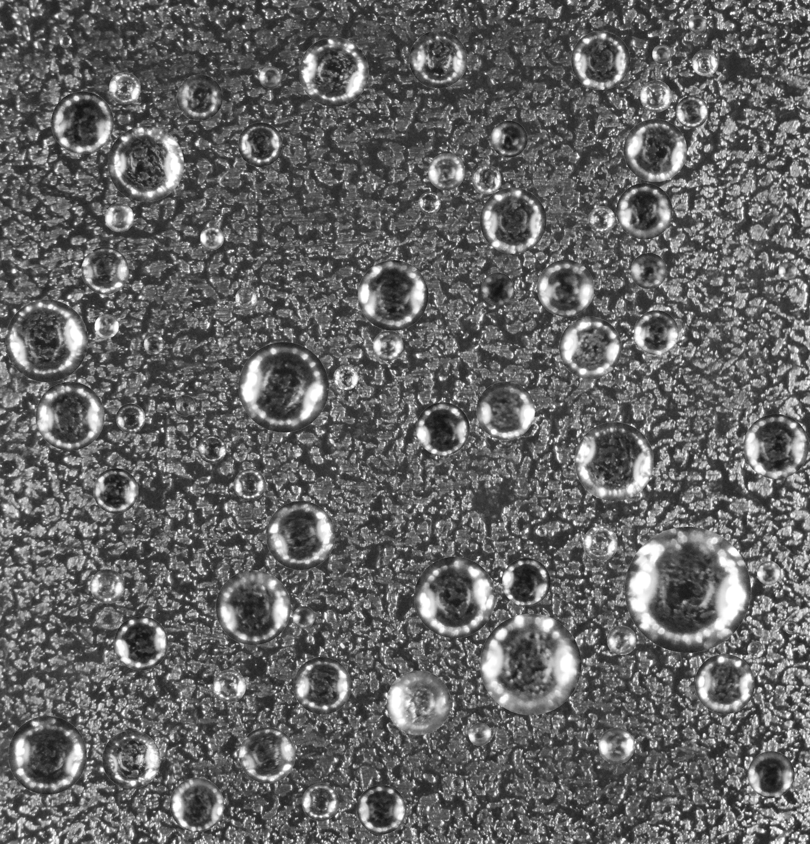Bubble: (624, 526, 750, 652), (480, 613, 581, 715), (238, 342, 328, 432), (5, 299, 87, 382), (414, 556, 495, 638), (574, 422, 653, 501), (8, 716, 86, 794), (107, 125, 183, 201), (215, 570, 290, 645), (357, 260, 428, 330), (35, 381, 104, 450), (299, 37, 368, 106), (266, 501, 335, 570), (480, 187, 546, 253), (743, 414, 808, 479), (386, 670, 450, 735), (623, 118, 686, 181), (559, 316, 621, 379), (51, 91, 113, 153), (694, 654, 754, 714), (571, 31, 630, 89), (476, 381, 534, 439), (409, 30, 467, 88), (102, 730, 160, 788), (293, 657, 351, 714), (537, 259, 594, 316), (239, 727, 295, 783), (616, 183, 672, 239), (169, 778, 223, 832), (114, 616, 168, 670), (416, 402, 469, 455), (356, 785, 406, 834), (502, 558, 550, 606), (81, 246, 128, 294), (747, 751, 794, 798), (176, 74, 222, 120), (93, 468, 138, 513), (634, 310, 678, 354), (238, 122, 282, 166), (301, 783, 339, 821), (490, 120, 527, 157), (428, 153, 464, 190), (598, 728, 634, 764), (630, 252, 666, 288), (583, 526, 618, 561), (90, 569, 124, 603), (481, 272, 514, 305), (676, 95, 708, 128), (213, 669, 245, 702), (108, 72, 140, 104), (233, 469, 265, 500), (640, 80, 671, 112), (373, 330, 403, 360), (607, 625, 636, 655), (115, 403, 145, 432), (472, 164, 501, 194), (198, 434, 226, 463), (105, 203, 133, 232), (588, 206, 615, 232), (692, 49, 718, 76), (333, 365, 358, 390), (94, 314, 118, 338), (757, 561, 780, 584), (200, 226, 223, 249), (418, 191, 440, 214), (468, 723, 491, 745), (292, 606, 314, 628), (259, 66, 281, 88), (235, 287, 257, 309), (143, 334, 164, 354), (174, 395, 195, 415), (652, 44, 671, 63), (778, 261, 797, 280), (688, 15, 707, 33), (752, 139, 769, 156), (747, 641, 763, 657), (784, 620, 798, 634), (450, 777, 464, 790), (58, 34, 71, 47), (537, 526, 547, 536)
